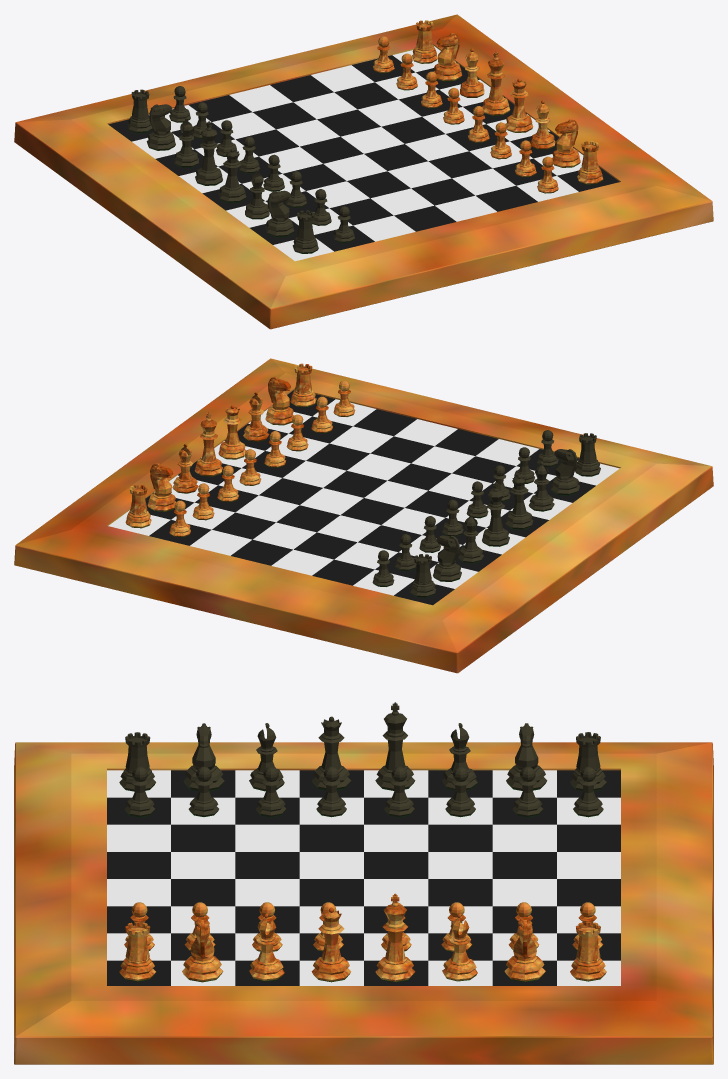
Rendered from chess-scene.fbx.
The picture shows the model from 3 angles, top to bottom: view 1: azimuth 30°, elevation 25°; view 2: azimuth 150°, elevation 25°; view 3: azimuth 270°, elevation 25°; orthographic projection. The views are drawn at different scales.
Visible parts, largest first — view 1: ChessBoard, knight.003, knight.001, knight.002, knight, king.001, king, queen, queen.001, rook, rook.001, rook.002 (+15 smaller); view 2: ChessBoard, knight, knight.003, knight.001, knight.002, king.001, king, queen, queen.001, rook, rook.001, rook.003 (+15 smaller); view 3: ChessBoard, king, queen, king.001, knight.001, knight, rook, rook.001, queen.001, bishop.001, bishop, knight.002 (+13 smaller).
Boxes of the visible parts, x1=… form: ChessBoard: x1=14, y1=14, x2=713, y2=329; knight.003: x1=265, y1=190, x2=294, y2=237; knight.001: x1=552, y1=119, x2=580, y2=167; knight.002: x1=146, y1=104, x2=175, y2=150; knight: x1=433, y1=33, x2=462, y2=81; king.001: x1=195, y1=121, x2=222, y2=185; king: x1=482, y1=51, x2=510, y2=115; queen: x1=505, y1=78, x2=533, y2=132; queen.001: x1=218, y1=148, x2=246, y2=202; rook: x1=577, y1=141, x2=603, y2=184; rook.001: x1=412, y1=20, x2=437, y2=63; rook.002: x1=292, y1=210, x2=318, y2=253; ChessBoard: x1=14, y1=358, x2=713, y2=673; knight: x1=147, y1=463, x2=175, y2=511; knight.003: x1=550, y1=449, x2=579, y2=495; knight.001: x1=265, y1=376, x2=293, y2=425; knight.002: x1=433, y1=535, x2=461, y2=581; king.001: x1=482, y1=482, x2=509, y2=546; king: x1=194, y1=412, x2=222, y2=476; queen: x1=218, y1=405, x2=246, y2=459; queen.001: x1=505, y1=475, x2=533, y2=529; rook: x1=290, y1=363, x2=316, y2=407; rook.001: x1=125, y1=484, x2=151, y2=528; rook.003: x1=410, y1=554, x2=436, y2=597; ChessBoard: x1=14, y1=742, x2=713, y2=1064; king: x1=375, y1=893, x2=415, y2=982; queen: x1=311, y1=907, x2=351, y2=982; king.001: x1=375, y1=702, x2=415, y2=790; knight.001: x1=182, y1=916, x2=223, y2=982; knight: x1=504, y1=916, x2=545, y2=981; rook: x1=119, y1=921, x2=155, y2=981; rook.001: x1=570, y1=921, x2=606, y2=981; queen.001: x1=311, y1=716, x2=351, y2=790; bishop.001: x1=442, y1=913, x2=477, y2=981; bishop: x1=249, y1=913, x2=284, y2=981; knight.002: x1=506, y1=723, x2=547, y2=790.
Bounding box in the file's own units: 65.34 × 12.25 × 65.34.
